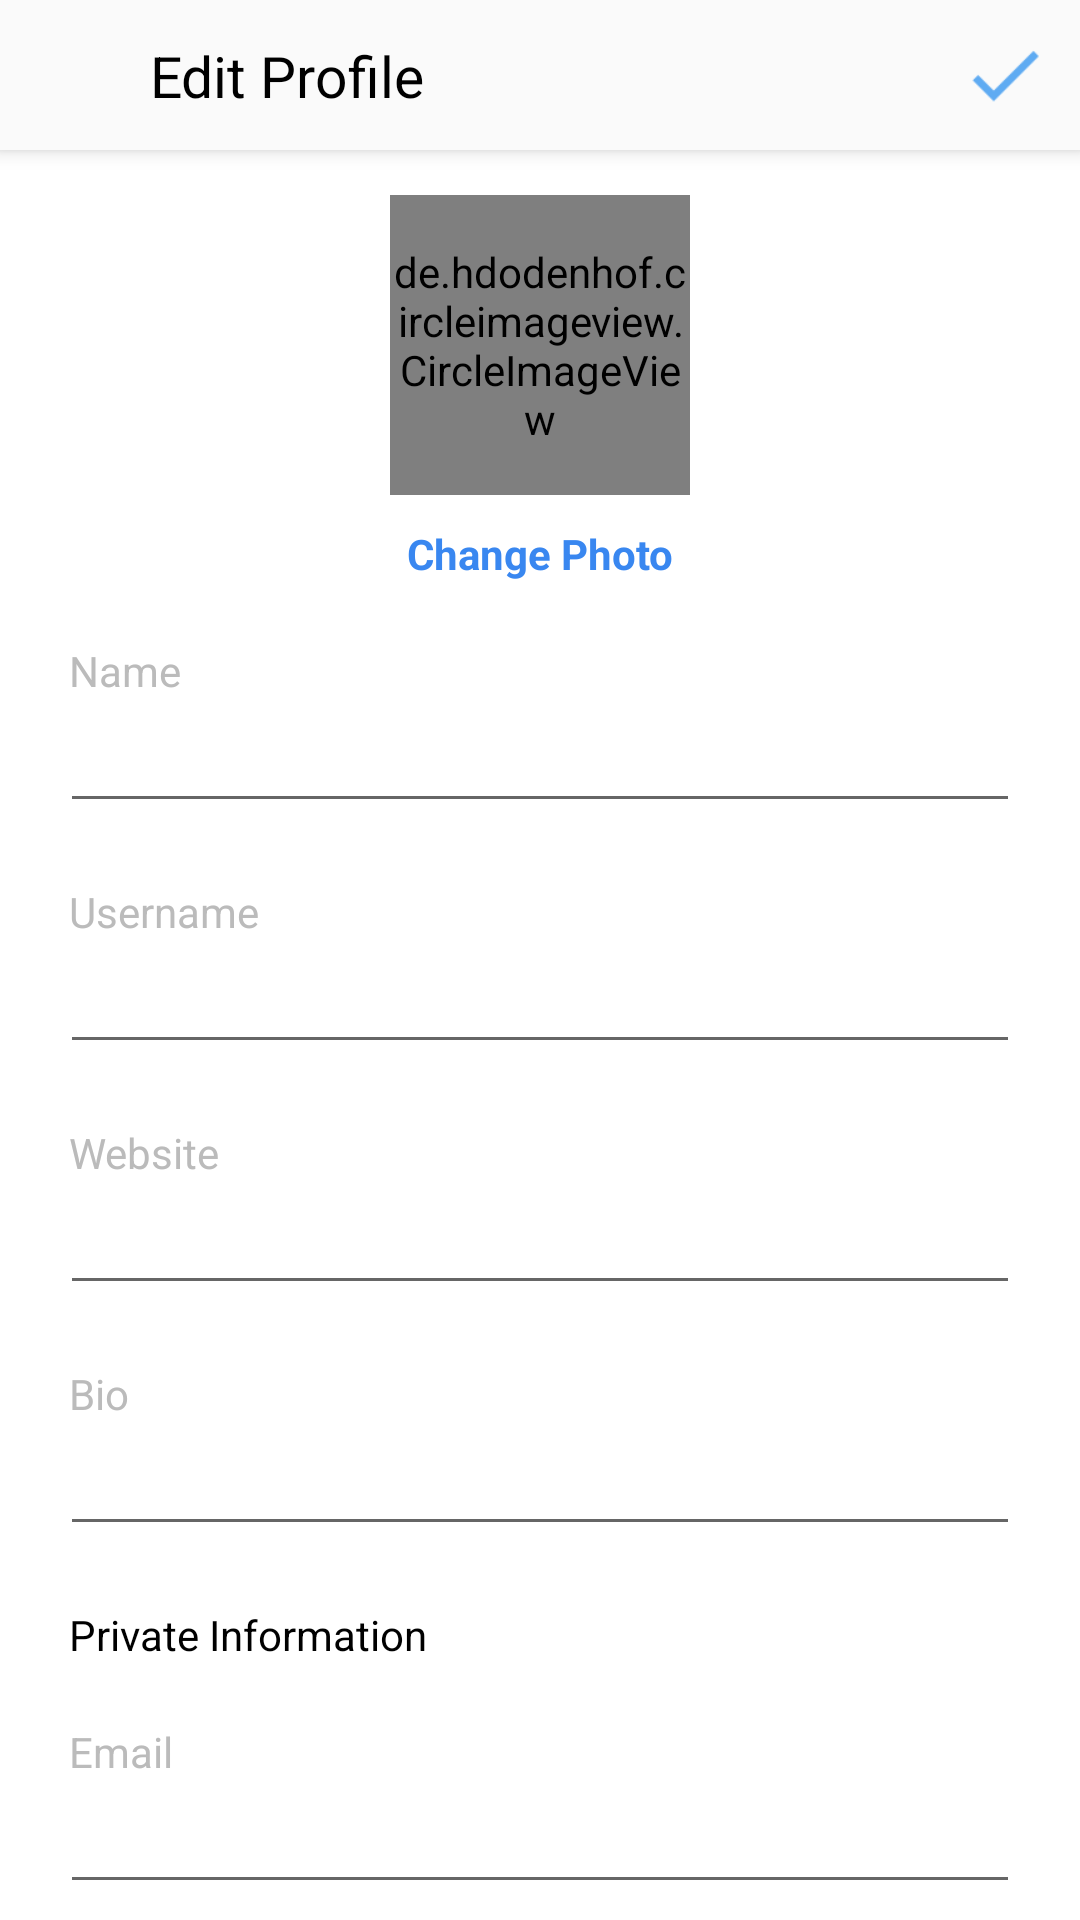

Icons on this 1080px x 1920px Android screen, each with its box as (x1, y1, x2, y2):
check: (972, 51, 1039, 102)
